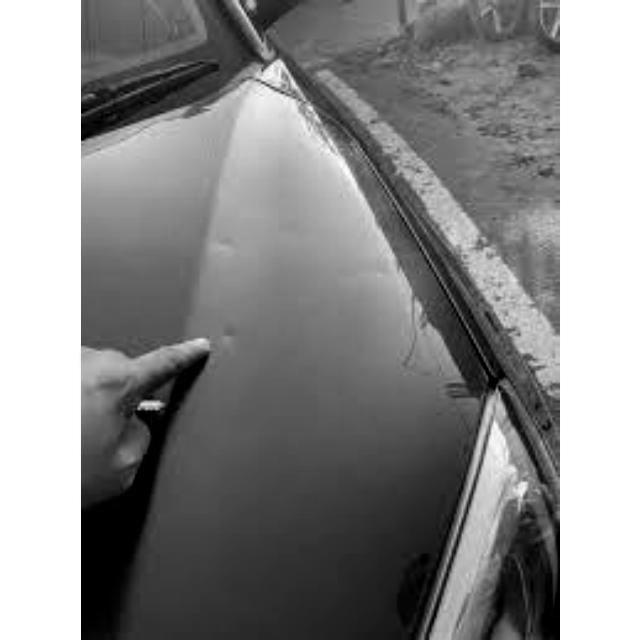bonnet-dent: (81, 29, 530, 555)
